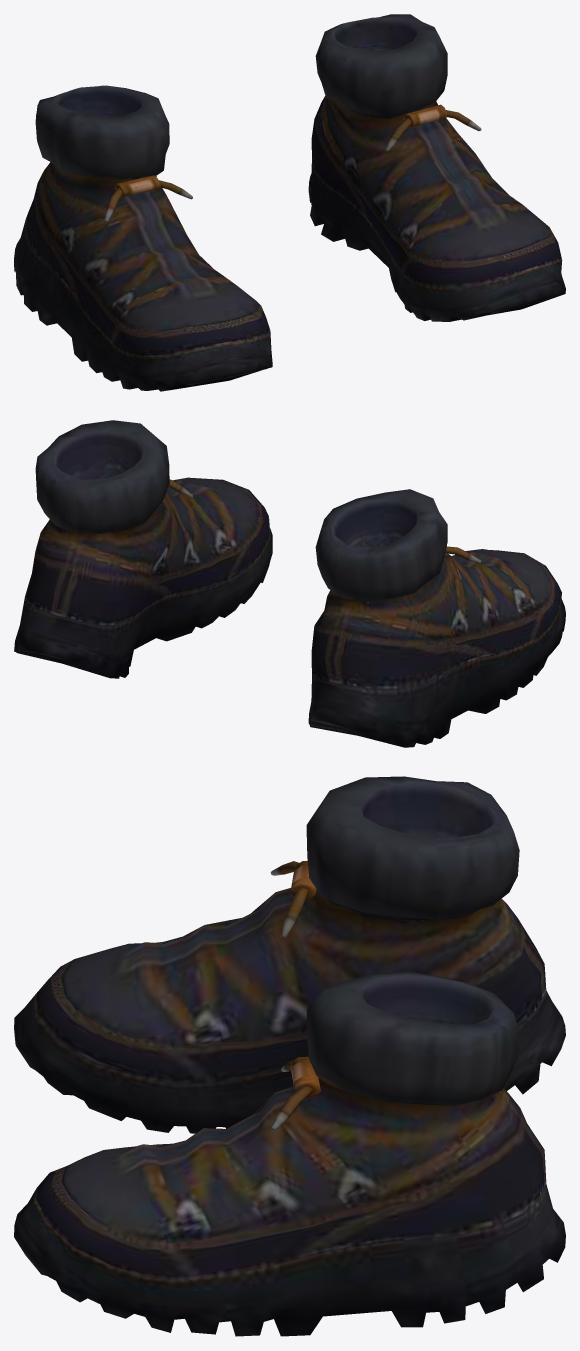
File: shoe5.glb
3 renders of one model, top to bottom at view 1: azimuth 30°, elevation 25°; view 2: azimuth 150°, elevation 25°; view 3: azimuth 270°, elevation 25°, orthographic. The views are drawn at different scales.
Visible parts, largest first — view 1: Wolf3D_Outfit_Footwear; view 2: Wolf3D_Outfit_Footwear; view 3: Wolf3D_Outfit_Footwear.
Part boxes in pixels (x1=…): Wolf3D_Outfit_Footwear: x1=14, y1=14, x2=565, y2=391; Wolf3D_Outfit_Footwear: x1=14, y1=420, x2=565, y2=747; Wolf3D_Outfit_Footwear: x1=14, y1=776, x2=565, y2=1336.
Bounding box in the file's own units: 0.4575 × 0.222 × 0.3679.
1 material, 1 textured.
